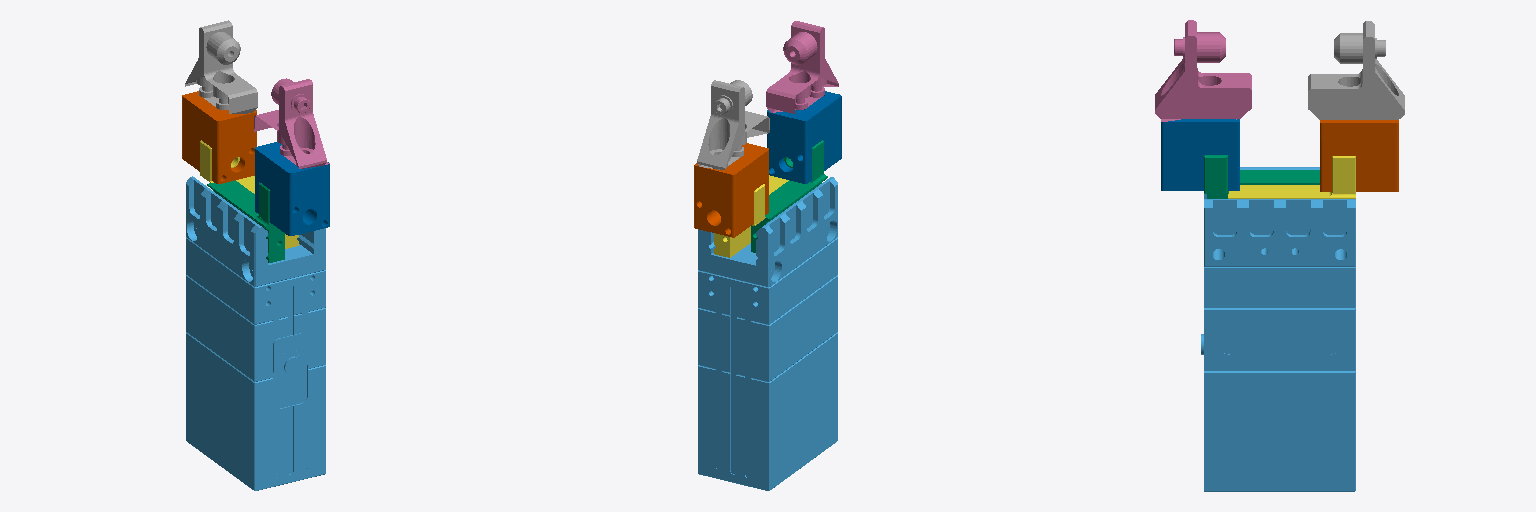
URDF robot description (schunk):
<?xml version="1.0" ?>
<!-- =================================================================================== -->
<!-- |    This document was autogenerated by xacro from schunk_EGP50.xacro             | -->
<!-- |    EDITING THIS FILE BY HAND IS NOT RECOMMENDED                                 | -->
<!-- =================================================================================== -->
<robot name="schunk">
  <material name="schunk_dark_grey">
    <color rgba="0.3 0.3 0.3 1.0"/>
  </material>
  <material name="schunk_grey">
    <color rgba="0.8 0.8 0.8 .0"/>
  </material>
  <link name="base_tool"/>
  <link name="_body">
    <visual>
      <origin rpy="0 0 0" xyz="0 0 0.0"/>
      <geometry>
        <mesh filename="package://acroba_resources/meshes/schunk_EGP50/visual/schunk_body_scaled.stl"/>
      </geometry>
    </visual>
    <material name="schunk_grey"/>
    <collision>
      <origin rpy="0 0 0" xyz="0 0 0.0522"/>
      <geometry>
        <box size="0.03 0.0508 0.104"/>
      </geometry>
    </collision>
  </link>
  <link name="_left_base_finger">
    <visual>
      <origin rpy="0 0 0" xyz="0 0 0.0"/>
      <geometry>
        <mesh filename="package://acroba_resources/meshes/schunk_EGP50/visual/schunk_left_finger_base_scaled.stl"/>
      </geometry>
    </visual>
    <material name="schunk_dark_grey"/>
    <collision>
      <origin rpy="0 0 0" xyz="0.0 -0.021 0.11"/>
      <geometry>
        <box size="0.0195 0.008 0.014"/>
      </geometry>
    </collision>
  </link>
  <link name="_right_base_finger">
    <visual>
      <origin rpy="0 0 0" xyz="0 0 0.0"/>
      <geometry>
        <mesh filename="package://acroba_resources/meshes/schunk_EGP50/visual/schunk_right_finger_base_scaled.stl"/>
      </geometry>
    </visual>
    <material name="schunk_dark_grey"/>
    <collision>
      <origin rpy="0 0 0" xyz="0.0 0.021 0.11"/>
      <geometry>
        <box size="0.0195 0.008 0.014"/>
      </geometry>
    </collision>
  </link>
  <link name="_left_adaptor_finger">
    <visual>
      <origin rpy="0 0 0" xyz="0 0 0.0"/>
      <geometry>
        <mesh filename="package://acroba_resources/meshes/schunk_EGP50/visual/schunk_left_adaptor_scaled.stl"/>
      </geometry>
    </visual>
    <material name="schunk_dark_grey"/>
    <collision>
      <origin rpy="0 0 0" xyz="0.0 -0.0264 0.1231"/>
      <geometry>
        <box size="0.017 0.026 0.036"/>
      </geometry>
    </collision>
  </link>
  <link name="_right_adaptor_finger">
    <visual>
      <origin rpy="0 0 0" xyz="0 0 0.0"/>
      <geometry>
        <mesh filename="package://acroba_resources/meshes/schunk_EGP50/visual/schunk_right_adaptor_scaled.stl"/>
      </geometry>
    </visual>
    <material name="schunk_dark_grey"/>
    <collision>
      <origin rpy="0 0 0" xyz="0.0 0.0264 0.1231"/>
      <geometry>
        <box size="0.017 0.026 0.036"/>
      </geometry>
    </collision>
  </link>
  <link name="_left_visual_finger_tip">
    <visual>
      <origin rpy="0 0 0" xyz="0 0 0.0"/>
      <geometry>
        <mesh filename="package://acroba_resources/meshes/schunk_EGP50/visual/schunk_left_tip_visual.stl"/>
      </geometry>
    </visual>
    <material name="schunk_dark_grey"/>
    <collision>
      <origin rpy="0 0 0" xyz="0.0 -0.029 0.1505"/>
      <geometry>
        <box size="0.012 0.004 0.019"/>
      </geometry>
    </collision>
  </link>
  <link name="_right_visual_finger_tip">
    <visual>
      <origin rpy="0 0 0" xyz="0 0 0.0"/>
      <geometry>
        <mesh filename="package://acroba_resources/meshes/schunk_EGP50/visual/schunk_right_tip_visual.stl"/>
      </geometry>
    </visual>
    <material name="schunk_dark_grey"/>
    <collision>
      <origin rpy="0 0 0" xyz="0.0 0.029 0.1505"/>
      <geometry>
        <box size="0.012 0.004 0.019"/>
      </geometry>
    </collision>
  </link>
  <link name="_right_collision_finger_tip">
    <collision>
      <origin rpy="1.5707 0 0" xyz="0.0 0.0265 0.153"/>
      <geometry>
        <cylinder length="0.017" radius="0.005"/>
      </geometry>
    </collision>
  </link>
  <link name="_left_collision_finger_tip">
    <collision>
      <origin rpy="1.5707 0 0" xyz="0.0 -0.0266 0.153"/>
      <geometry>
        <cylinder length="0.017" radius="0.005"/>
      </geometry>
    </collision>
  </link>
  <joint name="_tool_base_joint" type="fixed">
    <origin rpy="0 0 0" xyz="0 0 0.0"/>
    <parent link="base_tool"/>
    <child link="_body"/>
  </joint>
  <joint name="_left_finger_base_joint" type="prismatic">
    <origin rpy="0 0 0" xyz="0 0 0.0"/>
    <parent link="_body"/>
    <child link="_left_base_finger"/>
    <axis xyz="0 1 0"/>
    <limit effort="215" lower="0" upper="0.008" velocity="10"/>
  </joint>
  <joint name="_right_finger_base_joint" type="prismatic">
    <origin rpy="0 0 0" xyz="0 0 0.0"/>
    <parent link="_body"/>
    <child link="_right_base_finger"/>
    <axis xyz="0 -1 0"/>
    <limit effort="215" lower="0" upper="0.008" velocity="10"/>
  </joint>
  <joint name="_left_base_adaptor_joint" type="fixed">
    <origin rpy="0 0 0" xyz="0 0 0.0"/>
    <parent link="_left_base_finger"/>
    <child link="_left_adaptor_finger"/>
  </joint>
  <joint name="_right_base_adaptor_joint" type="fixed">
    <origin rpy="0 0 0" xyz="0 0 0.0"/>
    <parent link="_right_base_finger"/>
    <child link="_right_adaptor_finger"/>
  </joint>
  <joint name="_left_adaptor_vis_joint" type="fixed">
    <origin rpy="0 0 0" xyz="0 0 0.0"/>
    <parent link="_left_adaptor_finger"/>
    <child link="_left_visual_finger_tip"/>
  </joint>
  <joint name="_right_adaptor_vis_joint" type="fixed">
    <origin rpy="0 0 0" xyz="0 0 0.0"/>
    <parent link="_right_adaptor_finger"/>
    <child link="_right_visual_finger_tip"/>
  </joint>
  <joint name="_right_vis_col_joint" type="fixed">
    <origin rpy="0 0 0" xyz="0 0 0.0"/>
    <parent link="_right_visual_finger_tip"/>
    <child link="_right_collision_finger_tip"/>
  </joint>
  <joint name="_left_vis_col_joint" type="fixed">
    <origin rpy="0 0 0" xyz="0 0 0.0"/>
    <parent link="_left_visual_finger_tip"/>
    <child link="_left_collision_finger_tip"/>
  </joint>
</robot>

--- Render facts (derived) ---
Views: 3 orthographic renders of the robot side by side, from view 1: azimuth 30°, elevation 25°; view 2: azimuth 150°, elevation 25°; view 3: azimuth 270°, elevation 25°.
Model schunk with 10 links and 9 joints (2 prismatic, 7 fixed), rooted at base_tool, posed every joint at zero.
Visible links, largest first — view 1: _body, _left_adaptor_finger, _right_adaptor_finger, _right_visual_finger_tip, _left_visual_finger_tip, _left_base_finger, _right_base_finger; view 2: _body, _right_adaptor_finger, _left_adaptor_finger, _left_visual_finger_tip, _right_visual_finger_tip, _left_base_finger, _right_base_finger; view 3: _body, _left_visual_finger_tip, _right_visual_finger_tip, _right_adaptor_finger, _left_adaptor_finger, _right_base_finger, _left_base_finger.
Boxes of the visible links, bbox=[...] form: _body: bbox=[186, 176, 325, 490]; _left_adaptor_finger: bbox=[255, 142, 329, 235]; _right_adaptor_finger: bbox=[182, 91, 256, 183]; _right_visual_finger_tip: bbox=[185, 20, 257, 113]; _left_visual_finger_tip: bbox=[254, 78, 329, 168]; _left_base_finger: bbox=[207, 180, 284, 262]; _right_base_finger: bbox=[200, 140, 298, 248]; _body: bbox=[698, 177, 837, 490]; _right_adaptor_finger: bbox=[694, 143, 768, 237]; _left_adaptor_finger: bbox=[767, 91, 841, 183]; _left_visual_finger_tip: bbox=[766, 21, 838, 113]; _right_visual_finger_tip: bbox=[697, 80, 769, 169]; _left_base_finger: bbox=[751, 140, 827, 252]; _right_base_finger: bbox=[714, 175, 788, 257]; _body: bbox=[1201, 167, 1355, 491]; _left_visual_finger_tip: bbox=[1155, 20, 1251, 121]; _right_visual_finger_tip: bbox=[1308, 21, 1404, 119]; _right_adaptor_finger: bbox=[1320, 120, 1398, 191]; _left_adaptor_finger: bbox=[1161, 119, 1239, 190]; _right_base_finger: bbox=[1228, 156, 1355, 198]; _left_base_finger: bbox=[1204, 155, 1319, 198].
Size in the robot's own frame: 0.03 by 0.082 by 0.1604 metres.
Meshes: 7 distinct files referenced, 7 mesh visuals loaded (7 binary STL).
